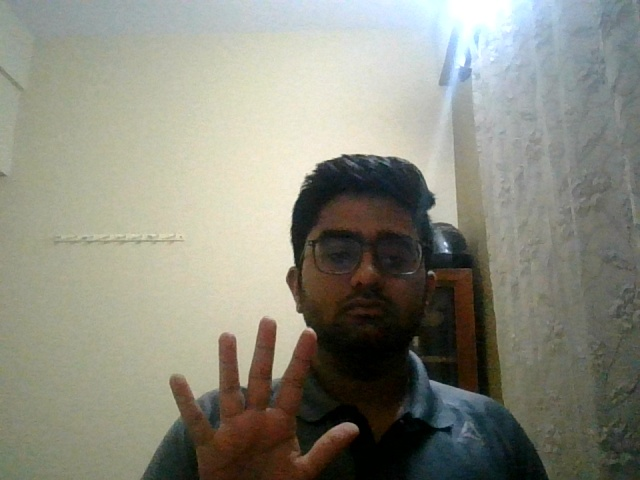Hello: (156, 313, 360, 480)
